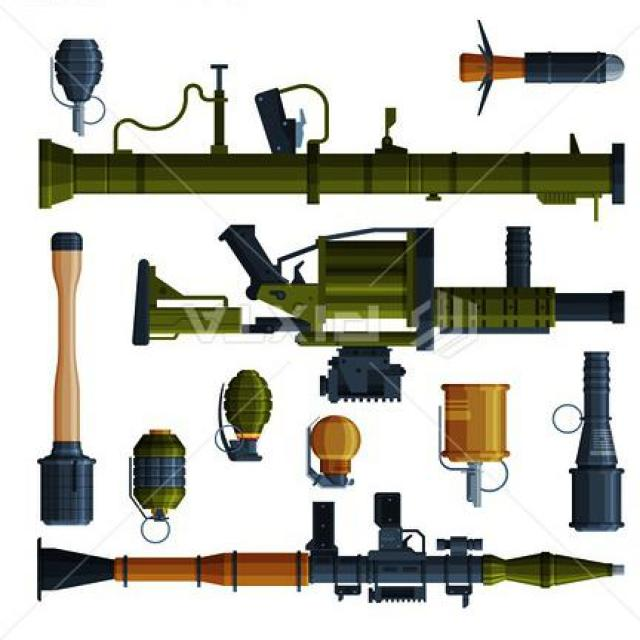grenade: (130, 431, 189, 546), (52, 37, 110, 139), (217, 371, 275, 465), (308, 415, 366, 492)
